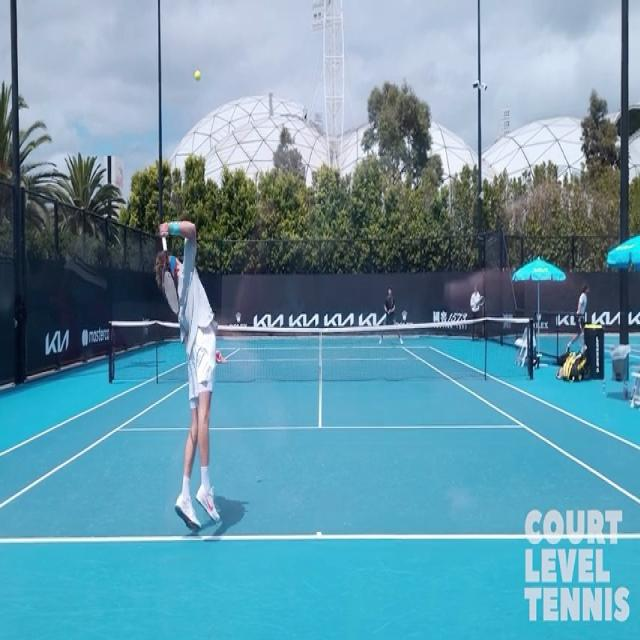serve_hit: (150, 177, 244, 539)
